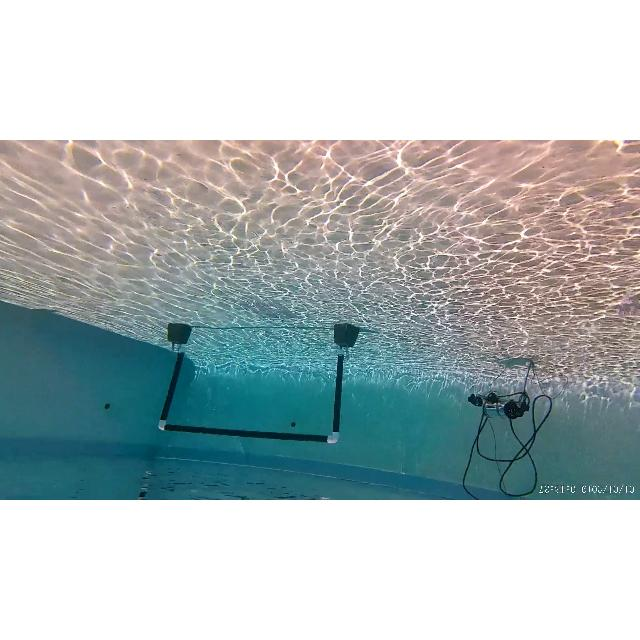prequal gate: (158, 347, 342, 443)
prequal gate leg l: (328, 346, 344, 442)
prequal gate leg r: (156, 344, 188, 436)
